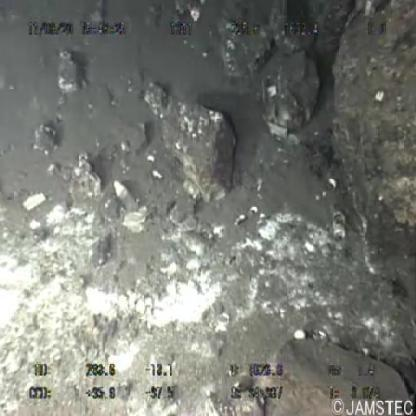Rác: (113, 178, 138, 216)
